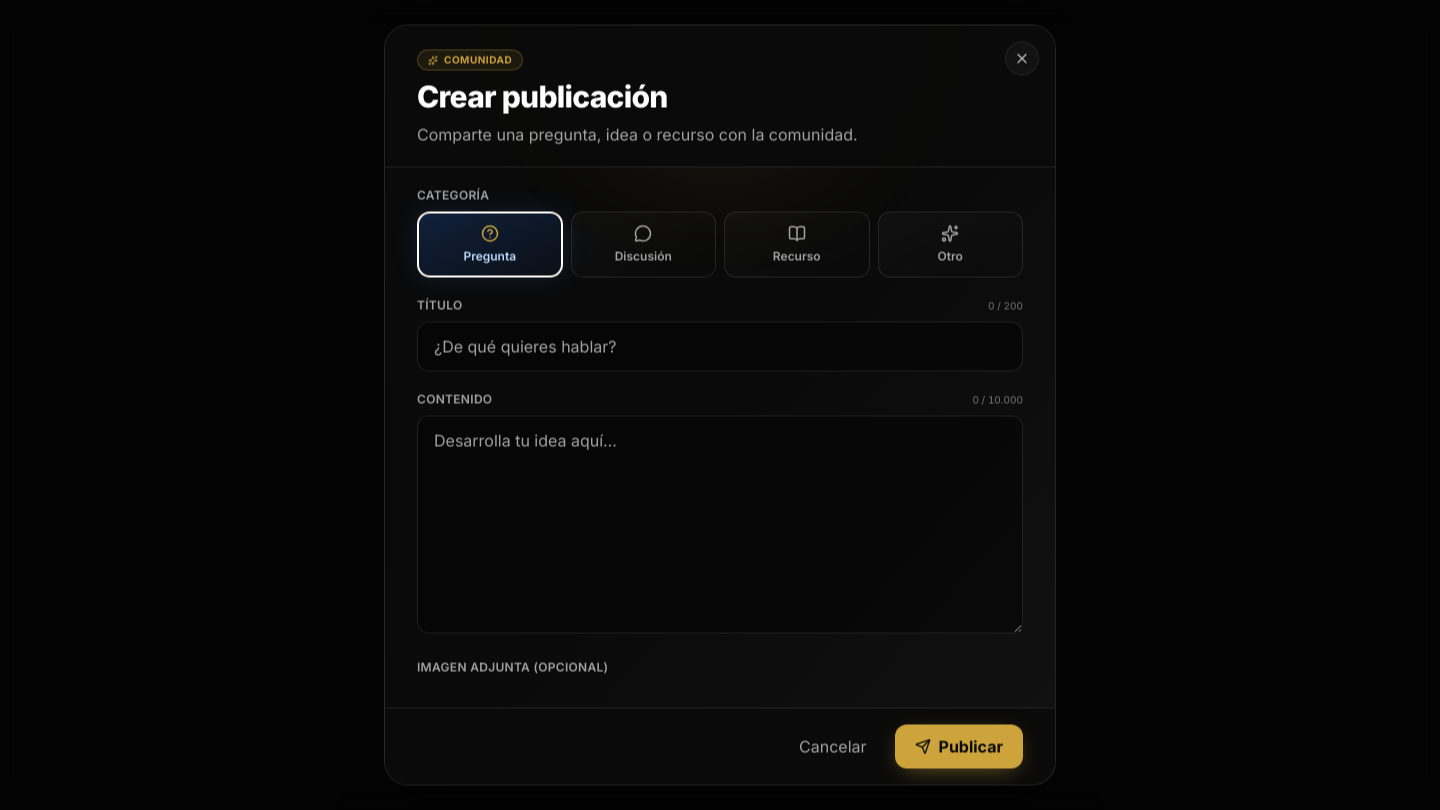
NewPostDialog › si publicar falla, el texto se conserva y se avisa en el diálogo
Type "Una pregunta" into the field labelled "Título".
click(720, 346); type("Una pregunta")  # box [417,322,1023,372]
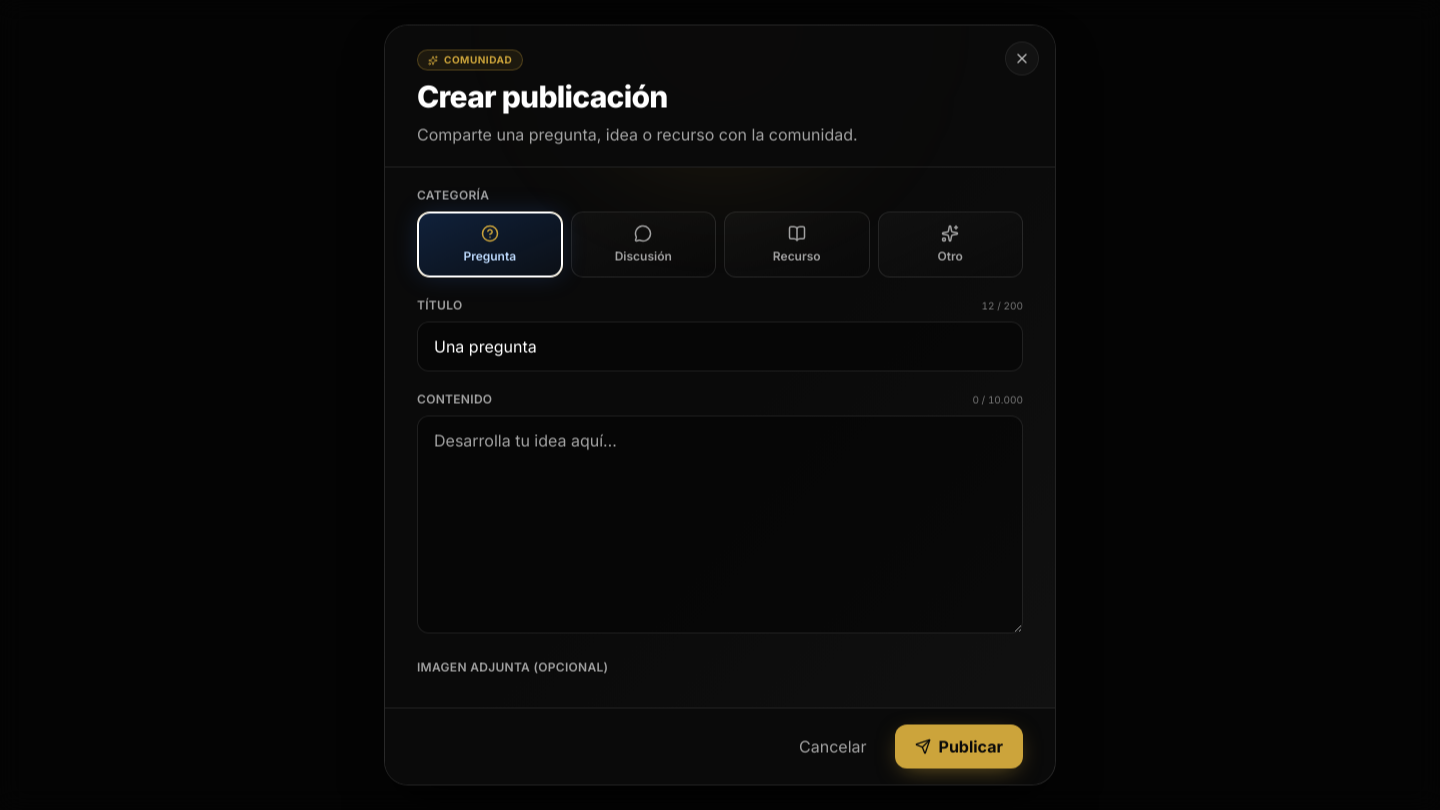
Type "Texto" into the text box labelled "Contenido".
click(720, 524); type("Texto")  # box [417,416,1023,634]
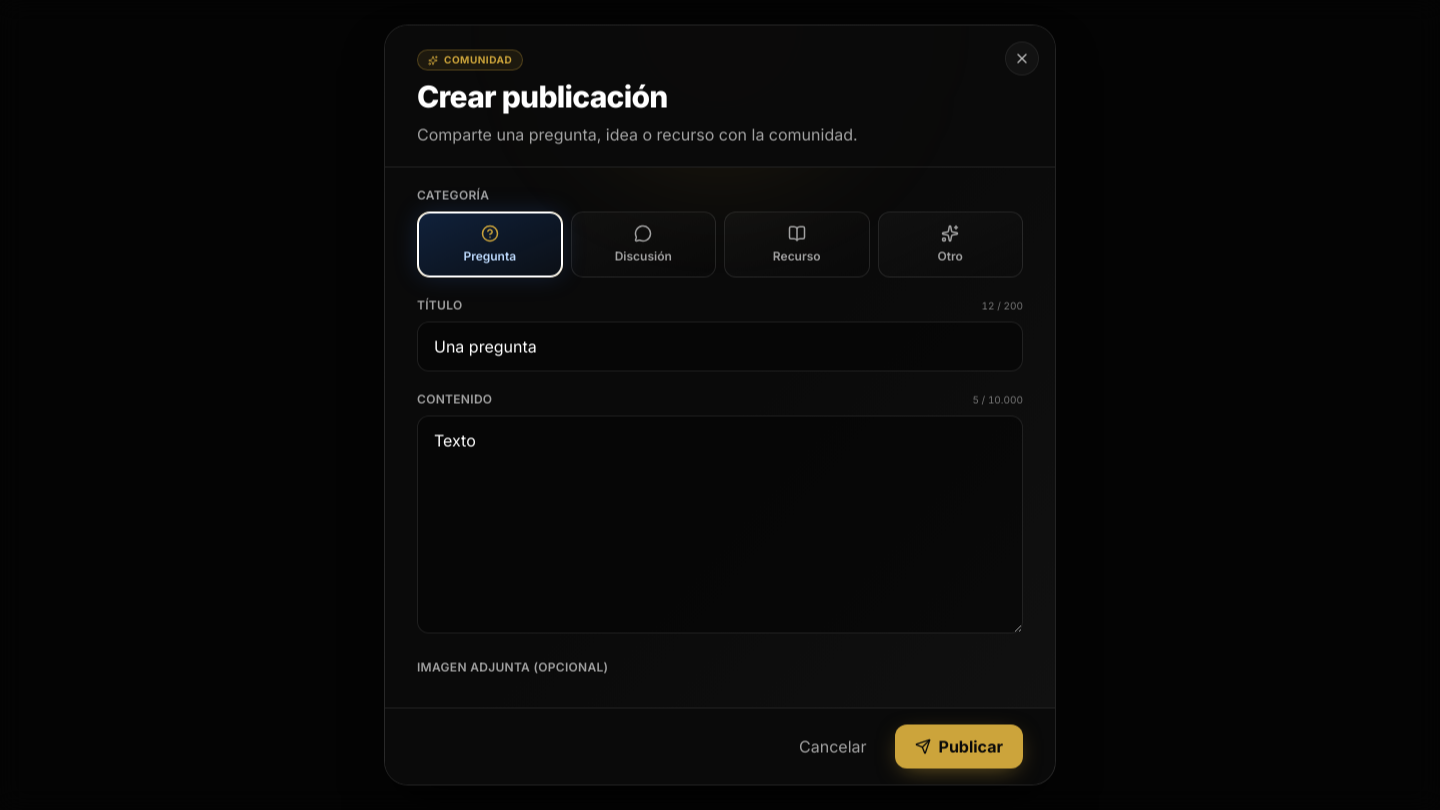
Click the button "Publicar".
click(959, 746)  # box [894,724,1023,768]
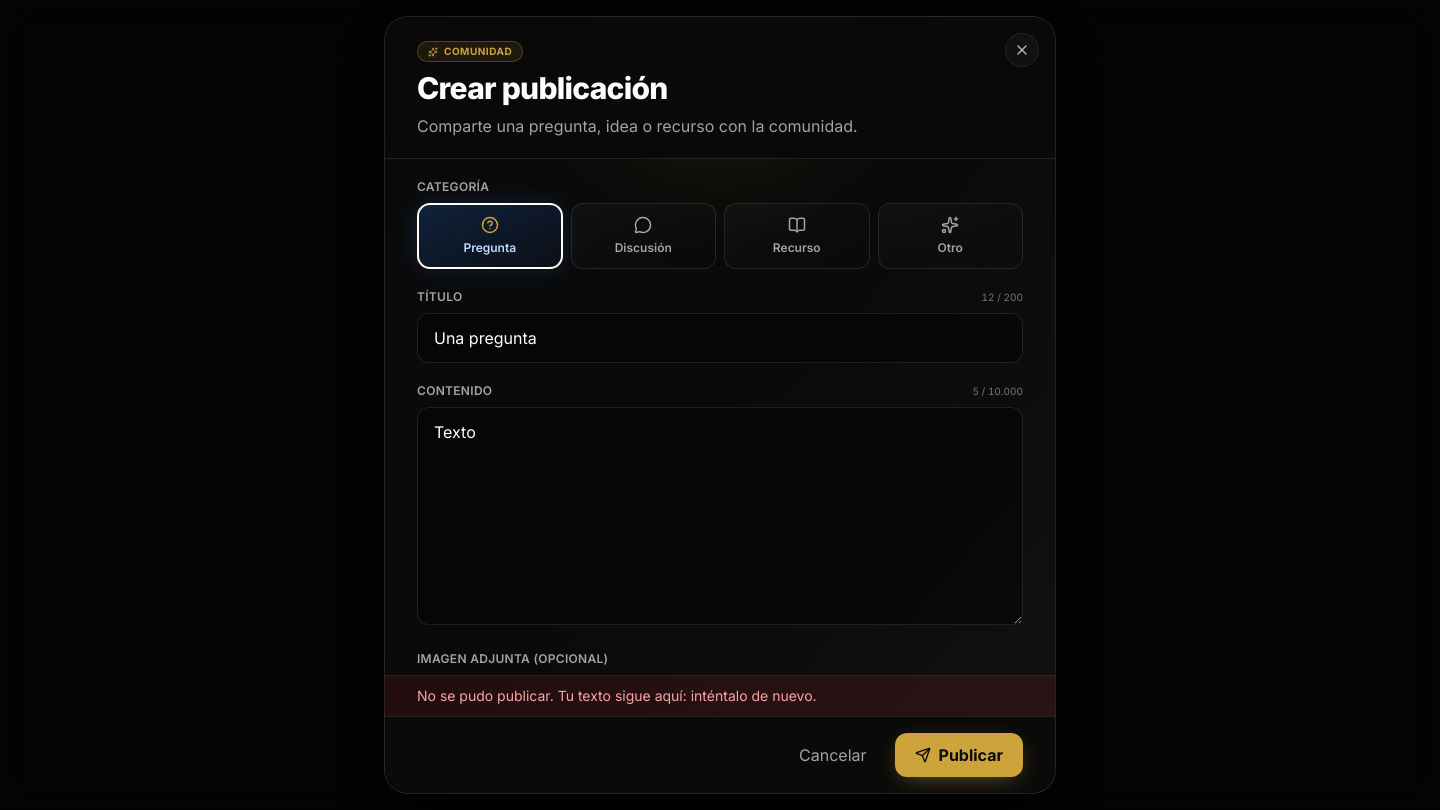
Expected: the message shows "No se pudo publicar", [417,687,817,704]
